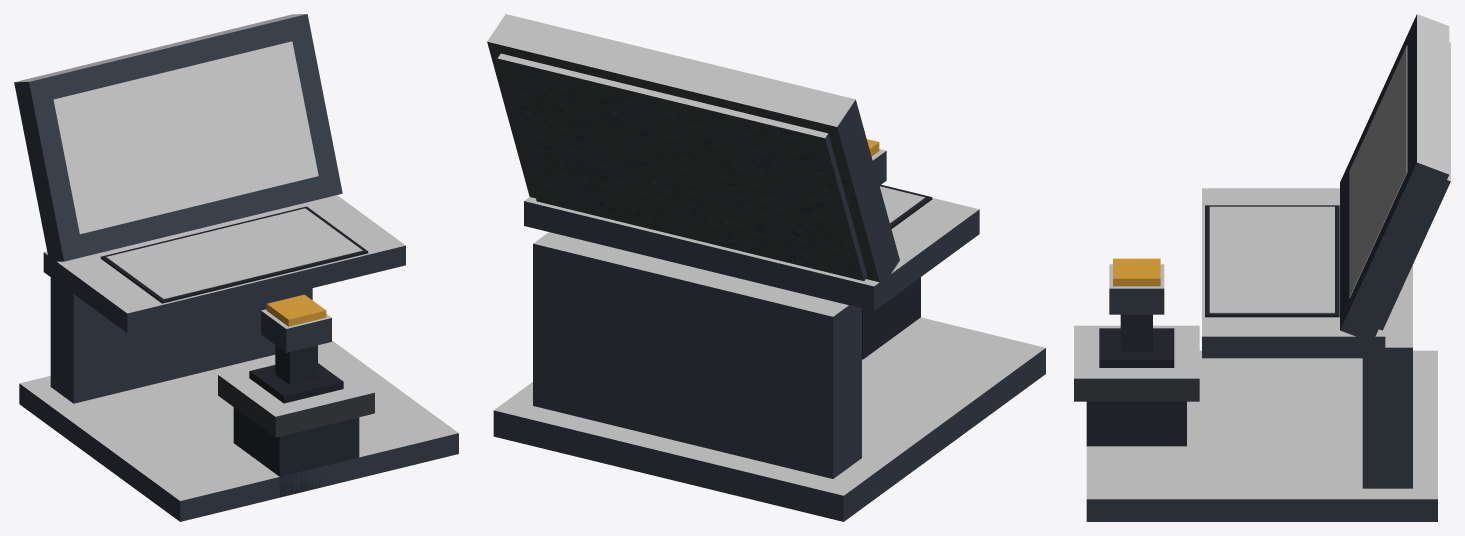
File: static.obj
3 views of the same model, side by side, from view 1: azimuth 30°, elevation 25°; view 2: azimuth 150°, elevation 25°; view 3: azimuth 270°, elevation 25° (orthographic). The views are drawn at different scales.
Visible parts, largest first — view 1: screen_center__screen_center_black, base__base_foot, screen_center__screen_center_housing, base__screen_support, base__screen_shelf, base__touch_center_strip, control_yoke__yoke_base, control_yoke__yoke_pedestal, base__touch_center_strip_rim, control_yoke__yoke_grip, control_yoke__yoke_socket, control_yoke__yoke_stalk (+1 smaller); view 2: base__screen_support, screen_center__screen_center_rear, base__base_foot, screen_center__screen_center_housing, base__screen_shelf, control_yoke__yoke_pedestal, base__touch_center_strip; view 3: base__base_foot, screen_center__screen_center_housing, base__touch_center_strip, base__screen_shelf, base__screen_support, screen_center__screen_center_black, control_yoke__yoke_base, control_yoke__yoke_pedestal, control_yoke__yoke_socket, base__touch_center_strip_rim, control_yoke__yoke_grip, control_yoke__yoke_amber_cap (+2 smaller).
Boxes of the visible parts, x1,y1,x2,y2 form: screen_center__screen_center_black: (53,41,318,234); base__base_foot: (19,340,458,521); screen_center__screen_center_housing: (14,14,342,261); base__screen_support: (50,277,312,403); base__screen_shelf: (43,195,405,333); base__touch_center_strip: (106,208,362,298); control_yoke__yoke_base: (218,351,374,437); control_yoke__yoke_pedestal: (233,407,359,497); base__touch_center_strip_rim: (100,206,368,303); control_yoke__yoke_grip: (261,309,331,352); control_yoke__yoke_socket: (249,363,343,403); control_yoke__yoke_stalk: (275,345,317,385); base__screen_support: (533,232,861,478); screen_center__screen_center_rear: (497,53,867,280); base__base_foot: (493,317,1045,521); screen_center__screen_center_housing: (487,14,899,282); base__screen_shelf: (524,197,979,311); control_yoke__yoke_pedestal: (862,277,920,359); base__touch_center_strip: (880,186,925,223); base__base_foot: (1086,350,1437,521); screen_center__screen_center_housing: (1340,14,1449,342); base__touch_center_strip: (1209,206,1334,313); base__screen_shelf: (1202,188,1385,358); base__screen_support: (1362,265,1412,488); screen_center__screen_center_black: (1349,45,1407,298); control_yoke__yoke_base: (1074,325,1199,401); control_yoke__yoke_pedestal: (1086,401,1186,446); control_yoke__yoke_socket: (1099,328,1174,367); base__touch_center_strip_rim: (1205,205,1339,317); control_yoke__yoke_grip: (1109,264,1164,314); control_yoke__yoke_amber_cap: (1113,258,1160,286).
Size of the model in its own units: 0.875 by 0.9881 by 0.9386.
